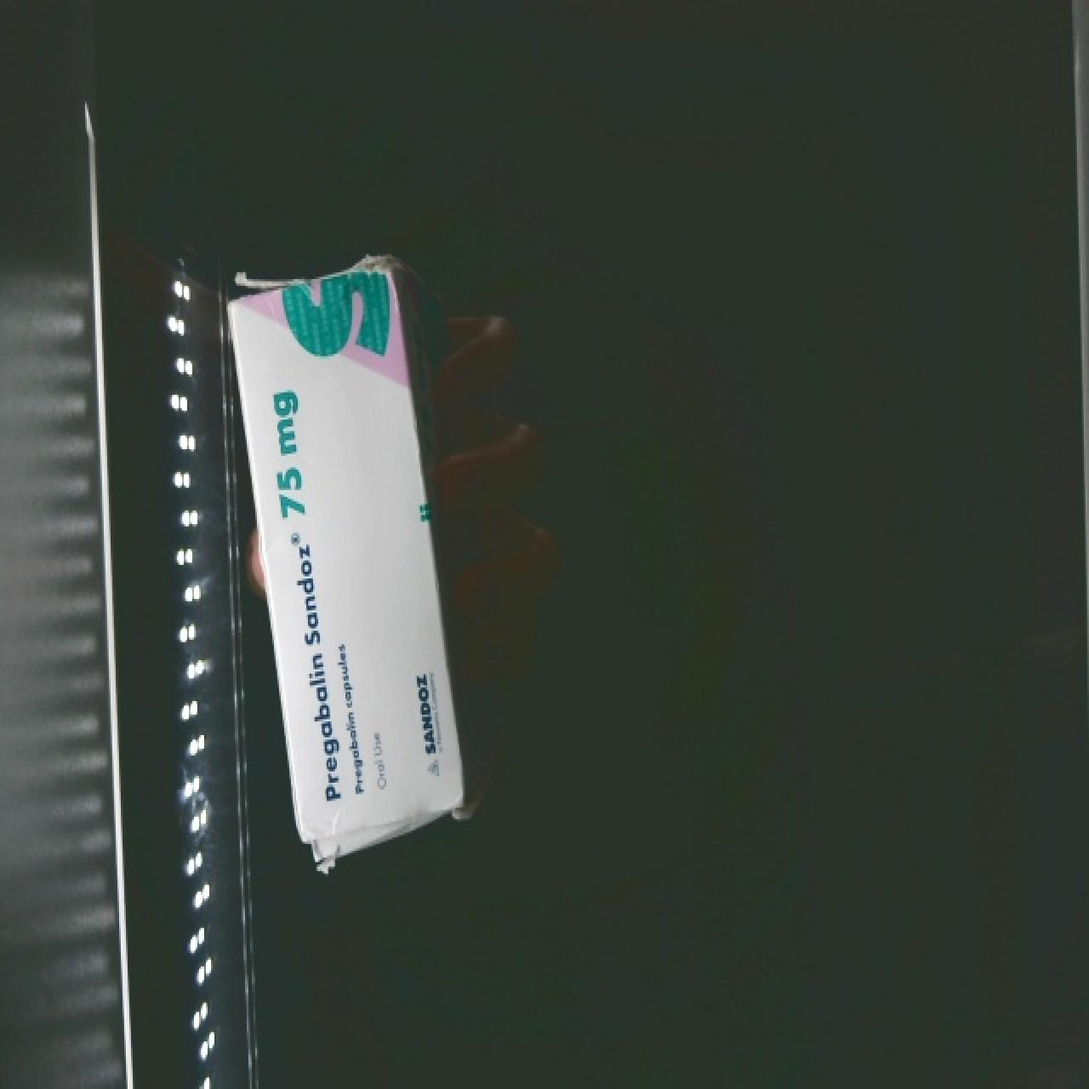medicine_label_obb: (269, 522, 356, 834)
